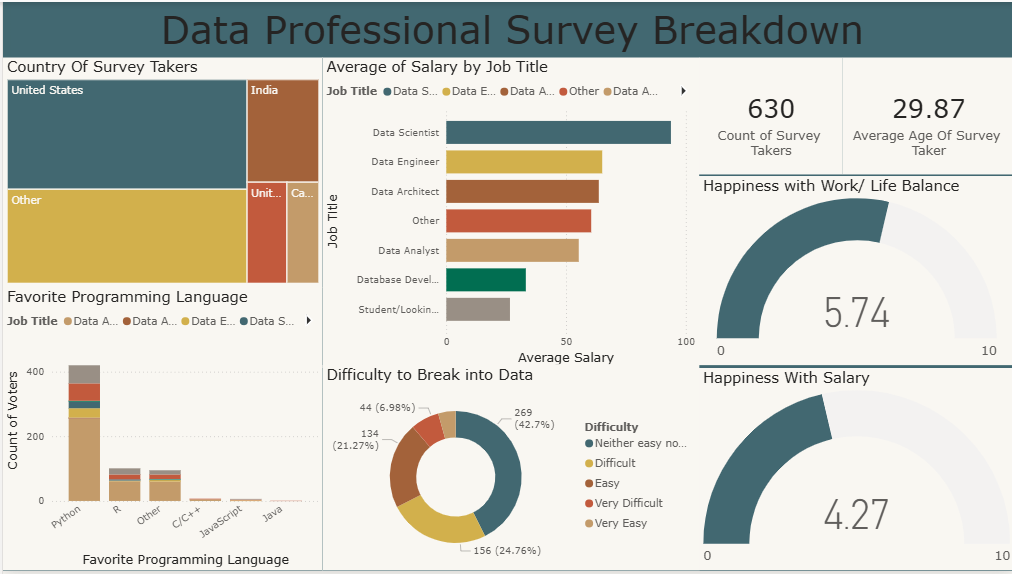

This screenshot's page, from the dashboard's own definition file:
{"tool":"powerbi","page":{"name":"Page 1","canvas":[1280,720],"ordinal":0},"visuals":[{"type":"textbox","box":[9.4,0,1269.9,69.9],"z":0},{"type":"card","fields":{"Values":["Count(Data Professional Survey.Unique ID)"]},"box":[880.8,70.2,182.2,148.1],"z":1000},{"type":"card","fields":{"Values":["Avg(Data Professional Survey.Q10 - Current Age)"]},"box":[1063,70.2,216.4,148.1],"z":2000},{"type":"barChart","title":"Average of  Salary by Job Title","fields":{"Category":["Data Professional Survey.Q1 - Which Title Best Fits your Current Role?.1"],"Y":["Avg(Data Professional Survey.Average Salary)"],"Series":["Data Professional Survey.Q1 - Which Title Best Fits your Current Role?.1"]},"box":[404.3,70.2,476.4,392.9],"z":3000},{"type":"columnChart","title":"  Favorite Programming Language","fields":{"Category":["Data Professional Survey.Q5 - Favorite Programming Language.1"],"Y":["CountNonNull(Data Professional Survey.Unique ID)"],"Series":["Data Professional Survey.Q1 - Which Title Best Fits your Current Role?.1"]},"box":[0,360.7,404.3,358.8],"z":4000},{"type":"treemap","title":"Country Of Survey Takers","fields":{"Group":["Data Professional Survey.Q11 - Which Country do you live in?.1"],"Values":["CountNonNull(Data Professional Survey.Q11 - Which Country do you live in?.1)"]},"box":[0,70.2,404.3,290.4],"z":4001},{"type":"gauge","title":"Happiness with Work/ Life Balance","fields":{"Y":["Avg(Data Professional Survey.Q6 - How Happy are you in your Current Position with the following? (Work/Life Balance))"],"MinValue":["Min(Data Professional Survey.Q6 - How Happy are you in your Current Position with the following? (Work/Life Balance))1"],"MaxValue":["Max(Data Professional Survey.Q6 - How Happy are you in your Current Position with the following? (Work/Life Balance))2"]},"box":[880.8,220.2,398.6,239.2],"z":4002},{"type":"gauge","title":"Happiness With Salary","fields":{"Y":["Avg(Data Professional Survey.Q6 - How Happy are you in your Current Position with the following? (Salary))"],"MinValue":["Min(Data Professional Survey.Q6 - How Happy are you in your Current Position with the following? (Salary))"],"MaxValue":["Max(Data Professional Survey.Q6 - How Happy are you in your Current Position with the following? (Salary))"]},"box":[880.8,463.2,398.6,256.3],"z":4003},{"type":"donutChart","title":"Difficulty to Break into Data","fields":{"Y":["CountNonNull(Data Professional Survey.Q7 - How difficult was it for you to break into Data?)"],"Category":["Data Professional Survey.Q7 - How difficult was it for you to break into Data?"]},"box":[404.3,459.4,476.4,260.1],"z":4004}]}

Visuals, with their boxes in screenshot pixels (x1, y1, x2, y2), scaled from the page's 1280x720 canvas onto the 1012x574 screenshot:
textbox: [7,0,1011,56]
card - Count(Data Professional Survey.Unique ID): [696,56,840,174]
card - Avg(Data Professional Survey.Q10 - Current Age): [840,56,1011,174]
"Average of  Salary by Job Title" barChart: [320,56,696,369]
"  Favorite Programming Language" columnChart: [0,288,320,573]
"Country Of Survey Takers" treemap: [0,56,320,287]
"Happiness with Work/ Life Balance" gauge: [696,176,1011,366]
"Happiness With Salary" gauge: [696,369,1011,573]
"Difficulty to Break into Data" donutChart: [320,366,696,573]
